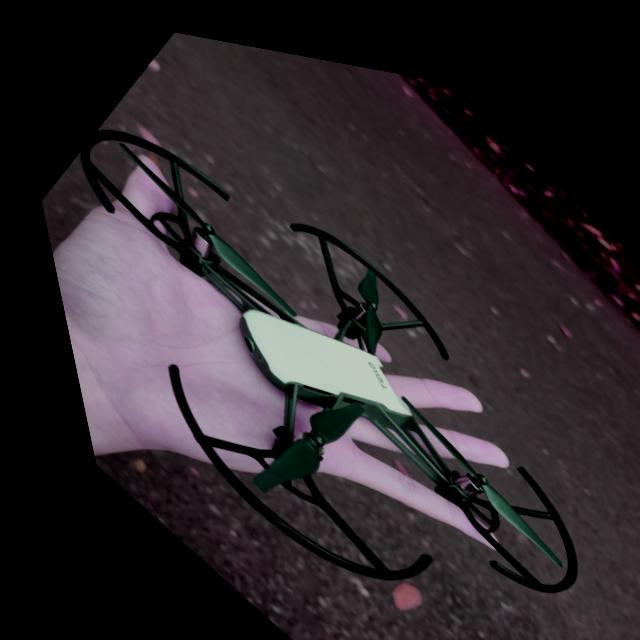drone: (70, 123, 567, 586)
